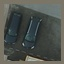car: (3, 10, 20, 44), (23, 16, 40, 50)
